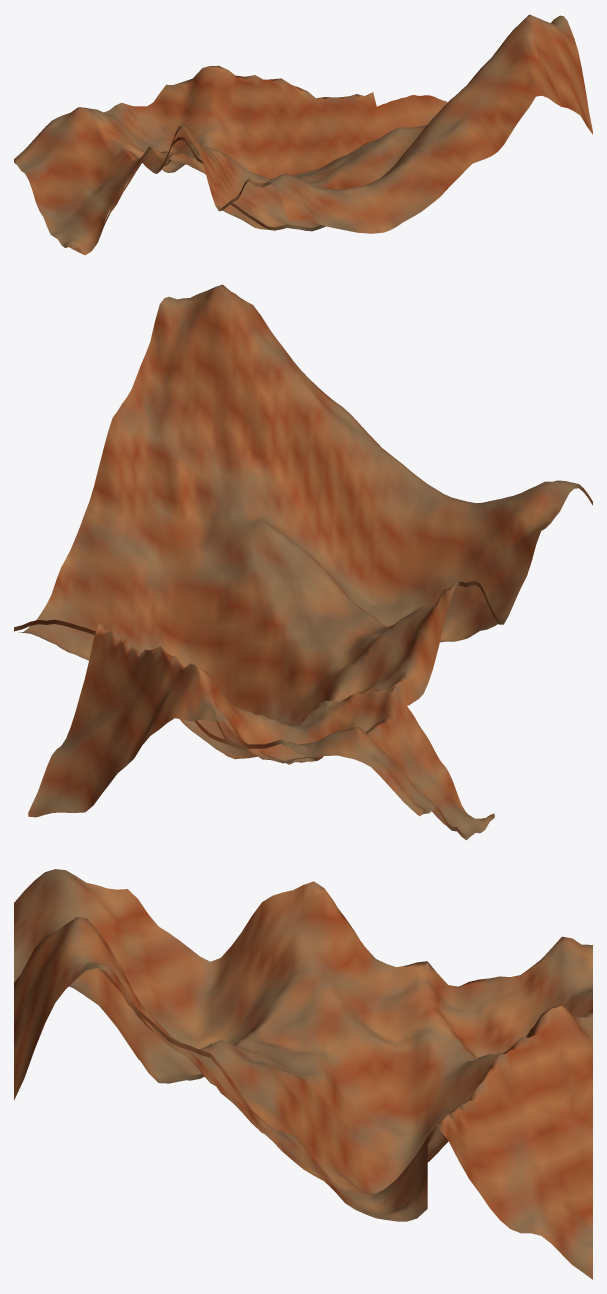
File: terrain-047.glb
The picture shows the model from 3 angles, top to bottom: view 1: azimuth 30°, elevation 25°; view 2: azimuth 150°, elevation 25°; view 3: azimuth 270°, elevation 25°; orthographic projection. The views are drawn at different scales.
Visible parts, largest first — view 1: terrain-047; view 2: terrain-047; view 3: terrain-047.
Part boxes in pixels (box(x1,y1,x2,y2)): terrain-047: box(14, 14, 592, 255); terrain-047: box(14, 284, 592, 840); terrain-047: box(14, 869, 592, 1279).
Size of the model in its own units: 472 by 329 by 448.
